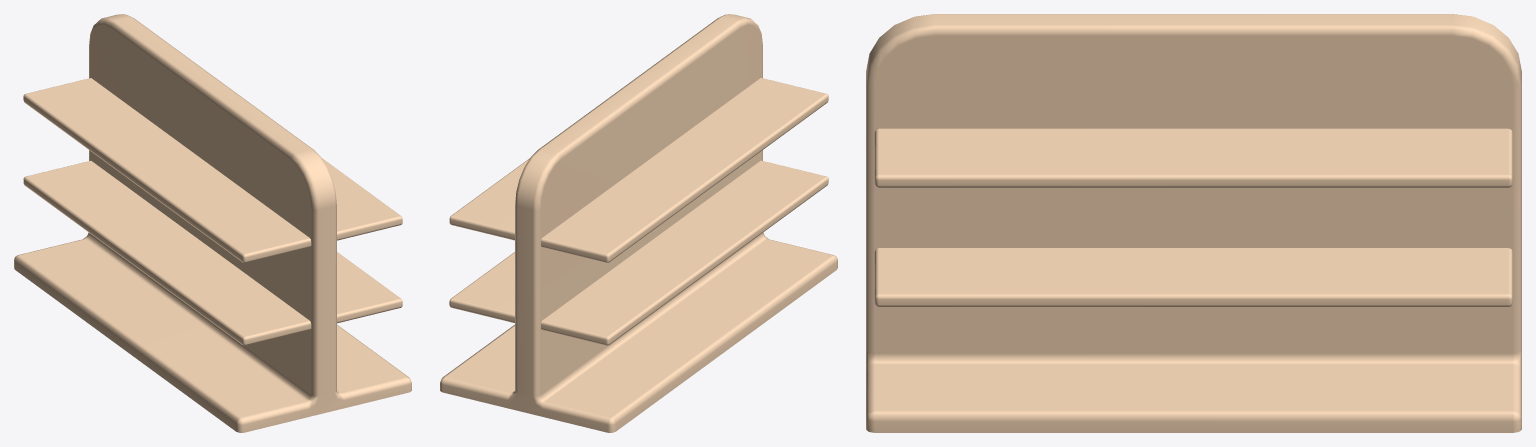
Rendered from PrateleiraNova.fbx.
3 views of the same model, side by side, from view 1: azimuth 30°, elevation 25°; view 2: azimuth 150°, elevation 25°; view 3: azimuth 270°, elevation 25° (orthographic). The views are drawn at different scales.
Visible parts, largest first — view 1: PrateleiraFinalPrefab.007; view 2: PrateleiraFinalPrefab.007; view 3: PrateleiraFinalPrefab.007.
Part boxes in pixels (left/top/right/bottom): PrateleiraFinalPrefab.007: left=14, top=14, right=411, bottom=432; PrateleiraFinalPrefab.007: left=440, top=14, right=837, bottom=432; PrateleiraFinalPrefab.007: left=866, top=14, right=1521, bottom=432.
Bounding box in the file's own units: 150 × 200 × 338.
